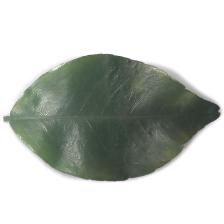healthy: (13, 61, 202, 169)
